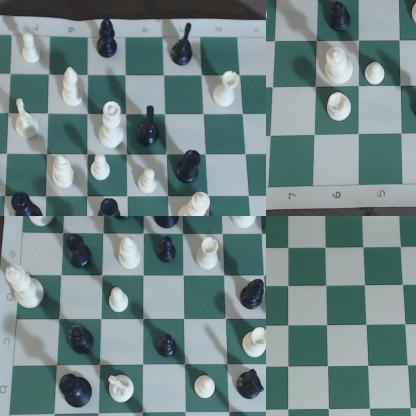black-bishop: (329, 1, 355, 40), (96, 17, 118, 59), (240, 276, 267, 310), (68, 323, 94, 356)
black-king: (12, 190, 46, 216), (152, 217, 183, 229)
black-knight: (171, 22, 195, 67), (139, 105, 161, 147), (236, 368, 264, 400)
black-pawn: (156, 234, 180, 264), (156, 335, 179, 359)
black-queen: (60, 373, 95, 409)
black-rook: (66, 232, 95, 272), (175, 149, 203, 185), (98, 198, 124, 216)
white-bishop: (62, 68, 86, 109), (52, 153, 77, 190), (118, 235, 143, 271)
white-king: (5, 264, 47, 310), (319, 43, 359, 86), (177, 191, 213, 216)
white-knight: (15, 98, 41, 142), (108, 375, 136, 405)
white-pawn: (366, 60, 391, 89), (23, 32, 43, 66), (90, 154, 113, 182), (138, 166, 158, 196), (109, 288, 131, 315), (195, 376, 217, 402)
white-queen: (99, 99, 125, 150), (20, 217, 56, 229), (231, 217, 263, 230)
white-rook: (212, 69, 241, 110), (326, 92, 358, 126), (243, 325, 266, 359), (198, 238, 221, 271)
